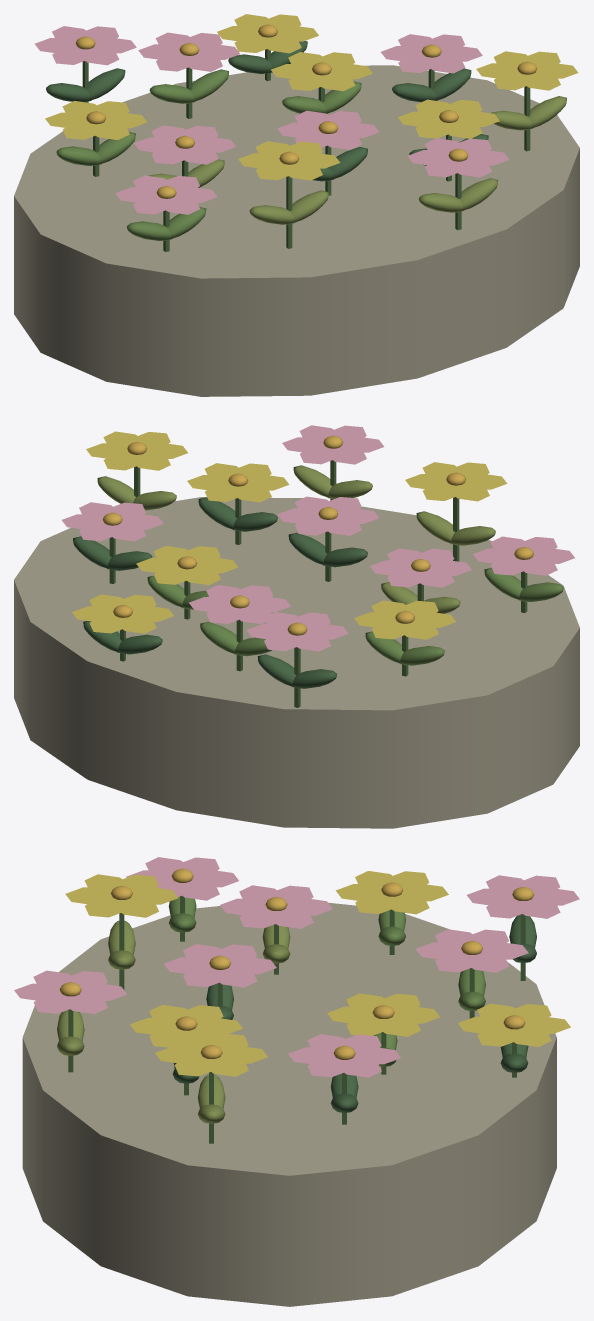
3 renders of one model, top to bottom at view 1: azimuth 30°, elevation 25°; view 2: azimuth 150°, elevation 25°; view 3: azimuth 270°, elevation 25°, orthographic. The views are drawn at different scales.
Parts seen in each view (by area): view 1: climb-flowers-5-0, 화단 06; view 2: climb-flowers-5-0, 화단 06; view 3: climb-flowers-5-0, 화단 06.
Boxes of the visible parts, left/top/right/bottom form: climb-flowers-5-0: left=14, top=65, right=579, bottom=396; 화단 06: left=34, top=14, right=578, bottom=251; climb-flowers-5-0: left=14, top=497, right=579, bottom=828; 화단 06: left=62, top=425, right=574, bottom=707; climb-flowers-5-0: left=22, top=902, right=556, bottom=1306; 화단 06: left=14, top=857, right=579, bottom=1143.
Size of the model in its own units: 2.36 by 0.9364 by 2.04.
